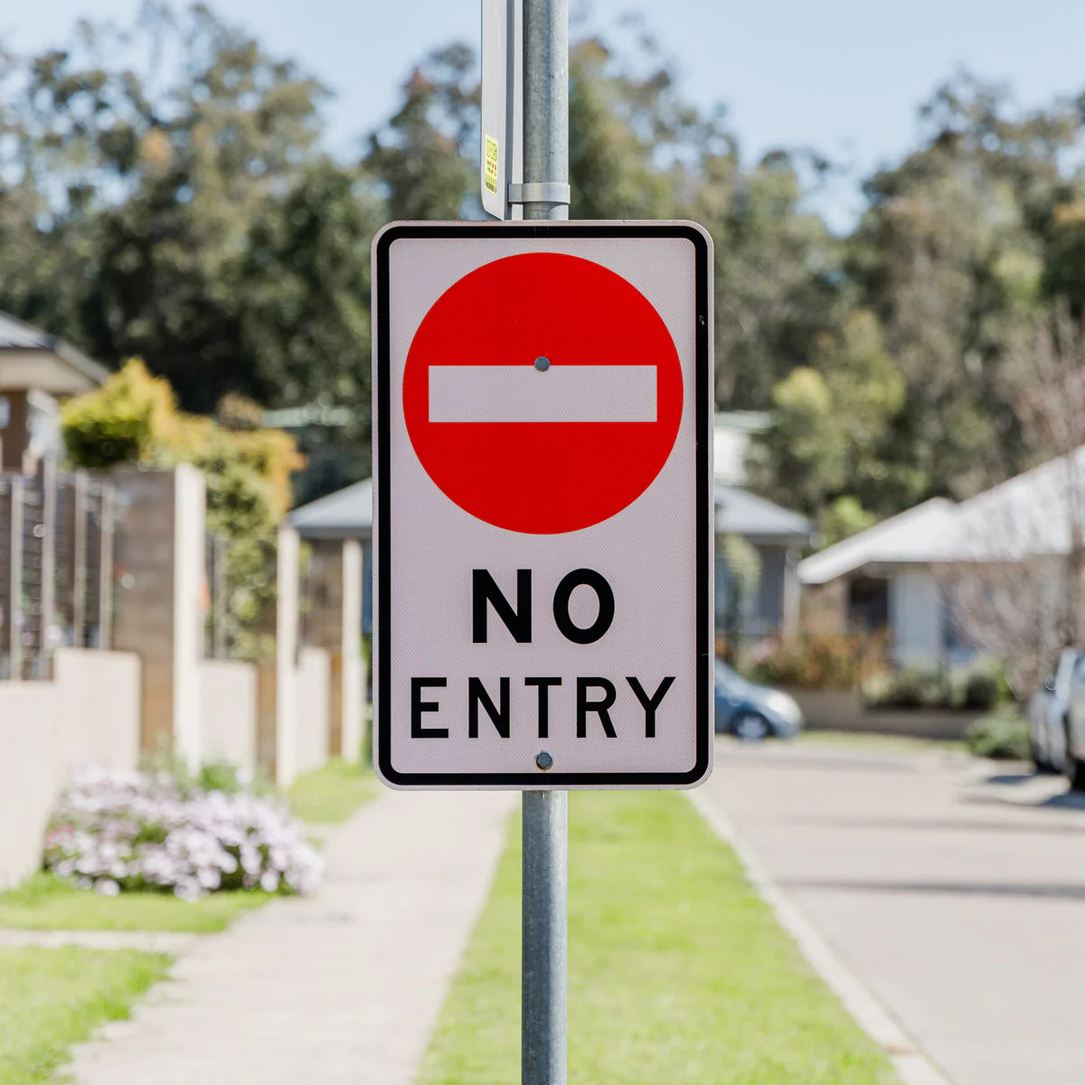noentry: (388, 241, 695, 541)
